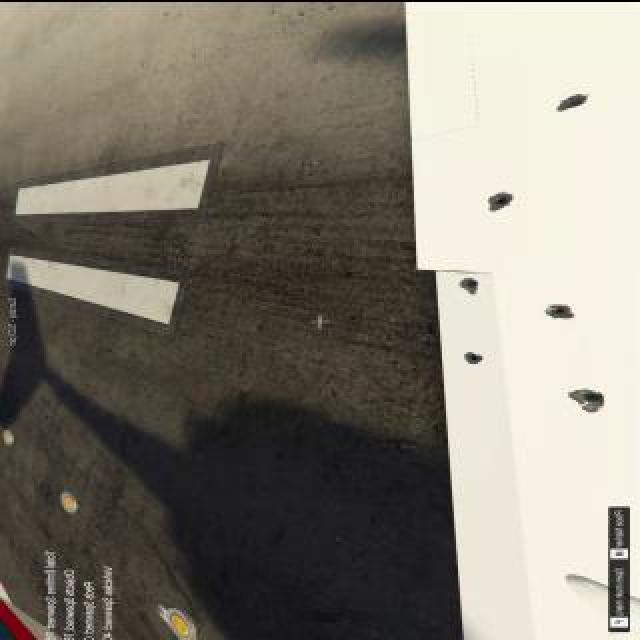crack: (568, 386, 606, 414), (554, 89, 590, 113), (485, 189, 519, 213), (540, 302, 580, 322), (458, 276, 482, 296), (463, 350, 487, 370)
